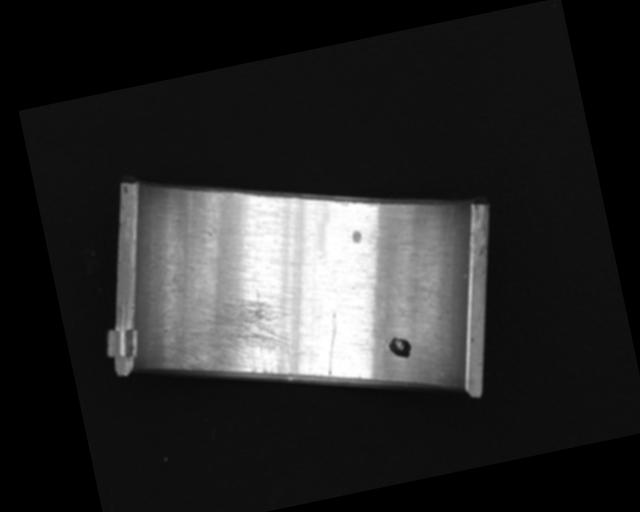blot: (385, 334, 414, 361)
bruise: (350, 228, 363, 245)
nick: (406, 203, 470, 300), (315, 310, 349, 375)
scratch: (172, 285, 300, 397)
